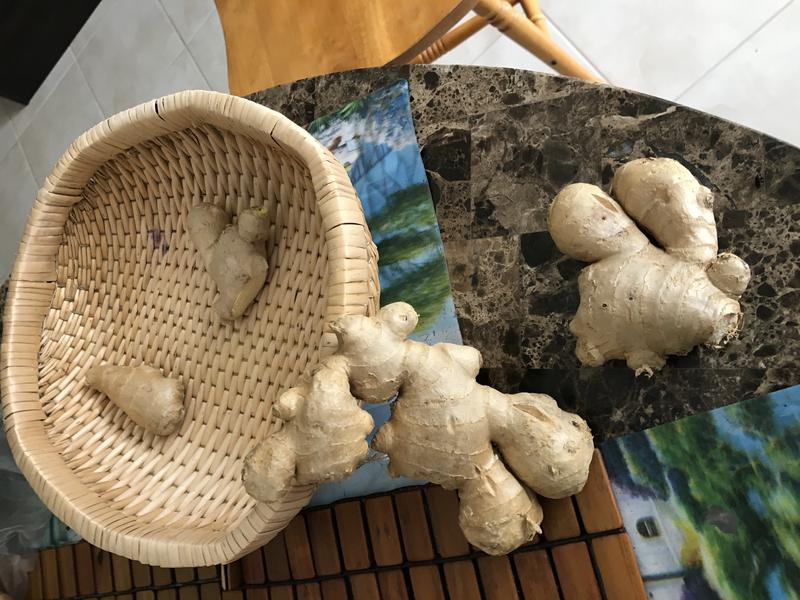ginger: (235, 297, 598, 573), (542, 154, 757, 392), (180, 191, 282, 335), (76, 346, 206, 446)
